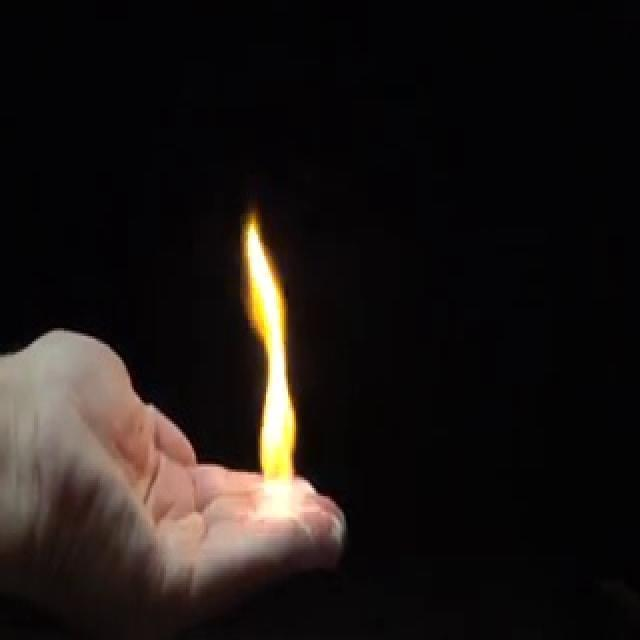fire: (235, 202, 308, 528)
